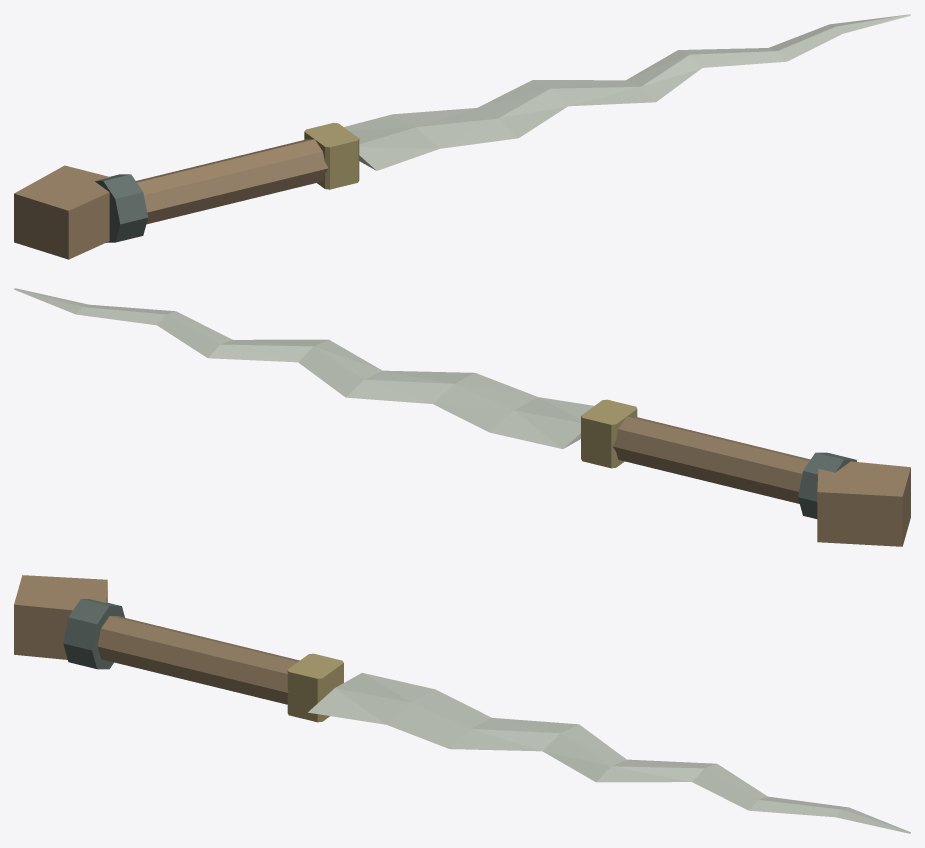
Rendered from weapon-kris.glb.
The picture shows the model from 3 angles, top to bottom: view 1: azimuth 30°, elevation 25°; view 2: azimuth 150°, elevation 25°; view 3: azimuth 330°, elevation 25°; orthographic projection. The views are drawn at different scales.
Visible parts, largest first — view 1: weapon-kris/faceted-distinct-blade, weapon-kris/eight-sided-handle, weapon-kris/asymmetric-bent-keris-pommel, weapon-kris/small-handle-ferrule, weapon-kris/handle-end-pommel; view 2: weapon-kris/faceted-distinct-blade, weapon-kris/eight-sided-handle, weapon-kris/asymmetric-bent-keris-pommel, weapon-kris/small-handle-ferrule, weapon-kris/handle-end-pommel; view 3: weapon-kris/faceted-distinct-blade, weapon-kris/eight-sided-handle, weapon-kris/asymmetric-bent-keris-pommel, weapon-kris/small-handle-ferrule, weapon-kris/handle-end-pommel.
Boxes of the visible parts, box(x1,y1,x2,y2) form: weapon-kris/faceted-distinct-blade: box(344, 14, 910, 170); weapon-kris/eight-sided-handle: box(136, 139, 328, 224); weapon-kris/asymmetric-bent-keris-pommel: box(14, 165, 110, 259); weapon-kris/small-handle-ferrule: box(304, 122, 359, 189); weapon-kris/handle-end-pommel: box(95, 174, 148, 242); weapon-kris/faceted-distinct-blade: box(14, 288, 593, 448); weapon-kris/eight-sided-handle: box(612, 416, 810, 503); weapon-kris/asymmetric-bent-keris-pommel: box(817, 461, 910, 546); weapon-kris/small-handle-ferrule: box(581, 399, 637, 468); weapon-kris/handle-end-pommel: box(798, 452, 856, 518); weapon-kris/faceted-distinct-blade: box(308, 673, 910, 833); weapon-kris/eight-sided-handle: box(97, 616, 299, 704); weapon-kris/asymmetric-bent-keris-pommel: box(14, 575, 107, 659); weapon-kris/small-handle-ferrule: box(287, 653, 343, 722); weapon-kris/handle-end-pommel: box(63, 599, 124, 669).
Size of the model in its own units: 0.566 by 0.038 by 0.0676.
4 materials, 4 textured.
